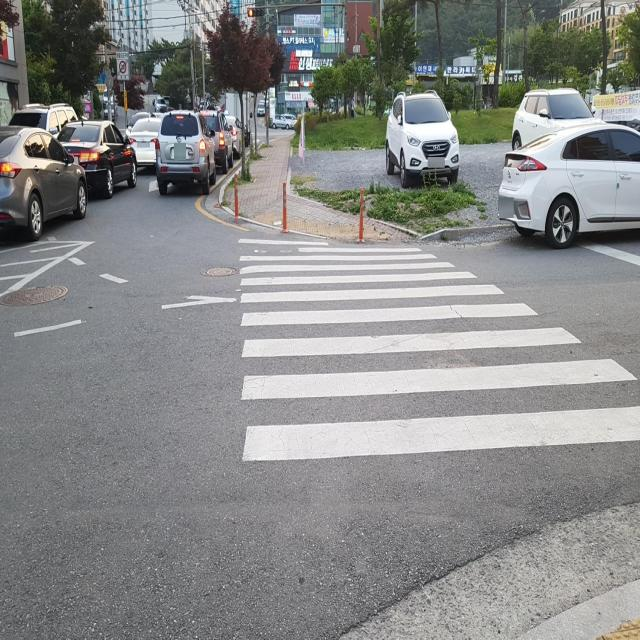횡단보도: (236, 231, 639, 467)
